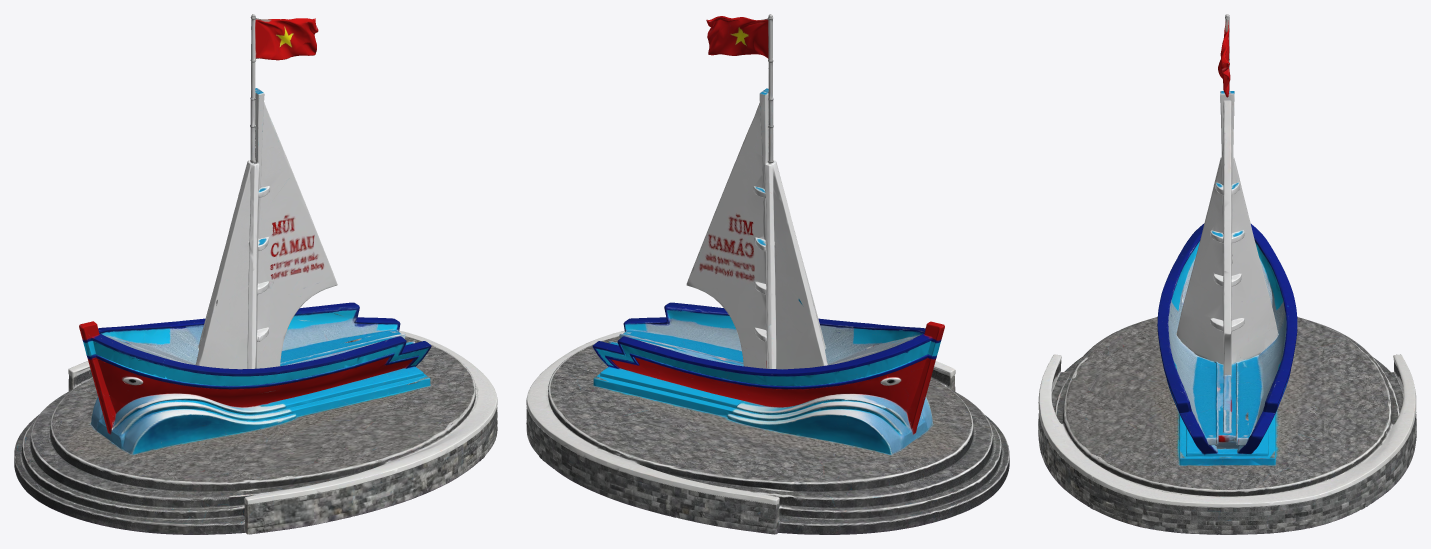
The model's file is mui-ca-mau.glb.
The picture shows the model from 3 angles, left to right: view 1: azimuth 30°, elevation 25°; view 2: azimuth 150°, elevation 25°; view 3: azimuth 270°, elevation 25°; orthographic projection. The views are drawn at different scales.
Bounding box in the file's own units: 1 × 0.9499 × 0.7778.
1 material, 1 textured.
